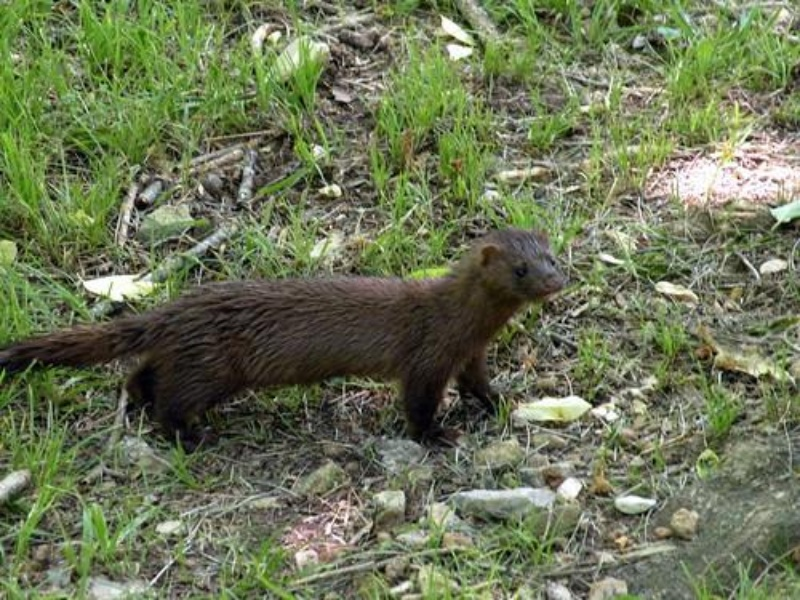minkish: (1, 225, 567, 453)
